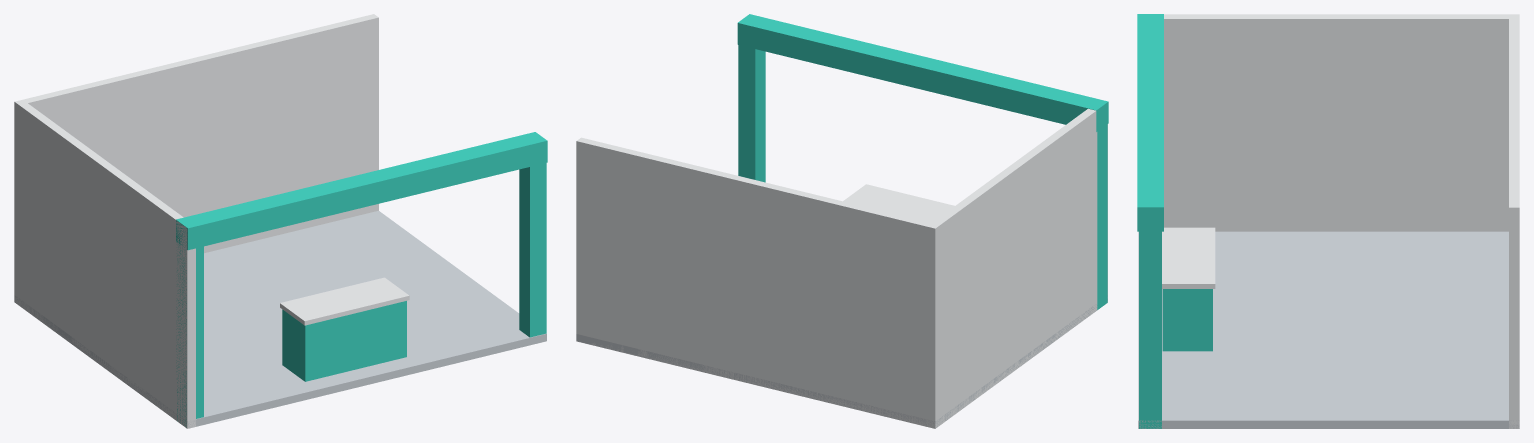
The picture shows the model from 3 angles, left to right: view 1: azimuth 30°, elevation 25°; view 2: azimuth 150°, elevation 25°; view 3: azimuth 270°, elevation 25°; orthographic projection. The views are drawn at different scales.
Parts seen in each view (by area): view 1: Exhibition Booth Concept; view 2: Exhibition Booth Concept; view 3: Exhibition Booth Concept.
Part boxes in pixels (box(x1,y1,x2,y2)): Exhibition Booth Concept: box(14, 14, 547, 428); Exhibition Booth Concept: box(576, 14, 1108, 428); Exhibition Booth Concept: box(1137, 14, 1519, 428).
Size of the model in its own units: 6 by 3.2 by 5.02.
